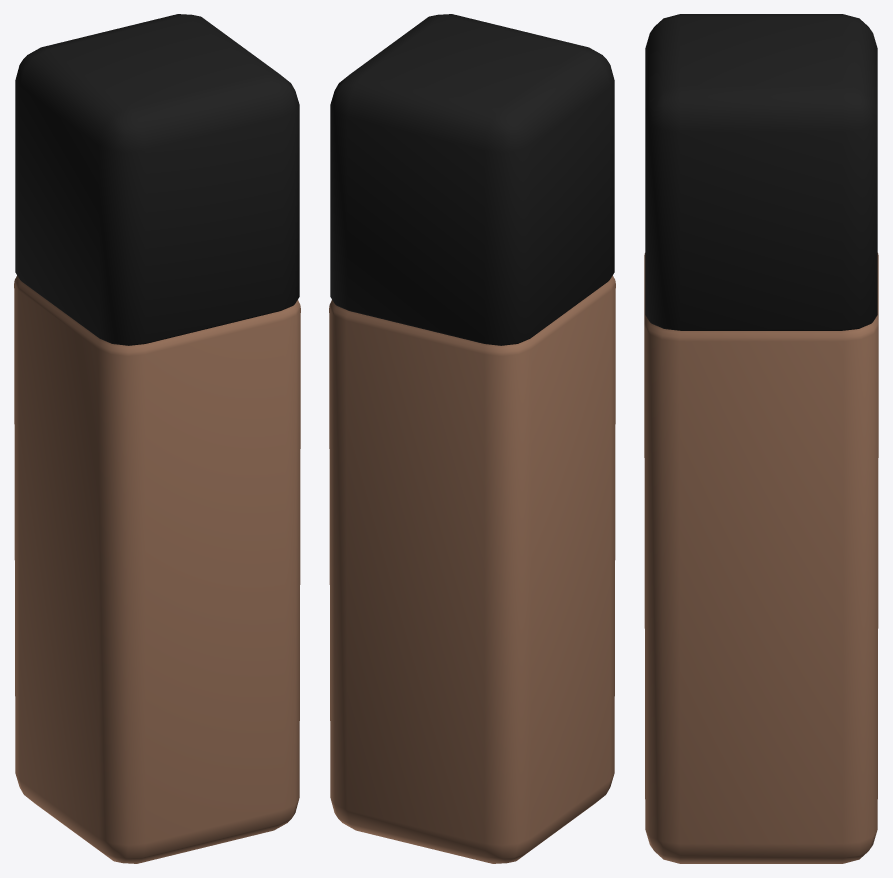
File: Foundation.fbx
3 views of the same model, side by side, from view 1: azimuth 30°, elevation 25°; view 2: azimuth 150°, elevation 25°; view 3: azimuth 270°, elevation 25° (orthographic). The views are drawn at different scales.
Visible parts, largest first — view 1: Foundation; view 2: Foundation; view 3: Foundation.
Part boxes in pixels (x1,y1,x2,y2): Foundation: [14, 14, 300, 863]; Foundation: [329, 14, 615, 863]; Foundation: [644, 14, 878, 863].
Size of the model in its own units: 1.34 by 4.88 by 1.34.
